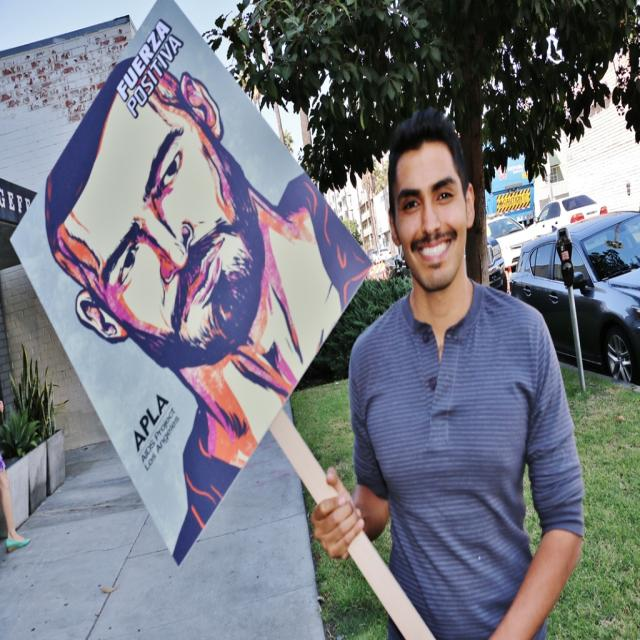car: (377, 248, 390, 263)
